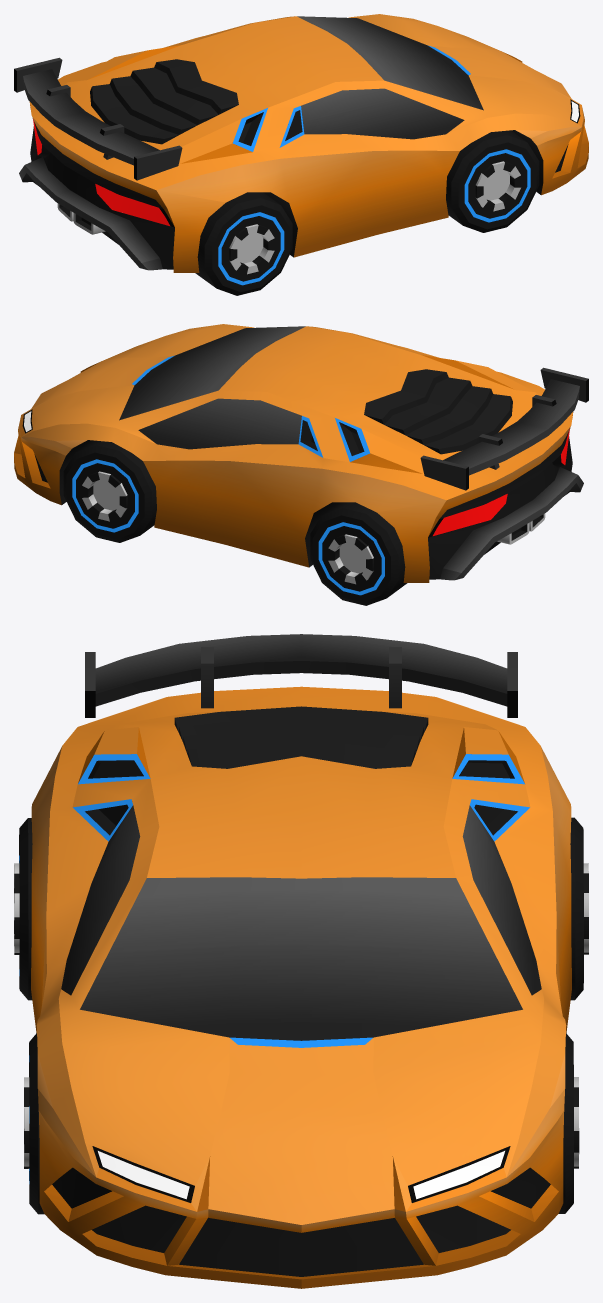
File: Car_235.glb
3 views of the same model, one above another, from view 1: azimuth 30°, elevation 25°; view 2: azimuth 150°, elevation 25°; view 3: azimuth 270°, elevation 25° (orthographic). The views are drawn at different scales.
Parts seen in each view (by area): view 1: Car_235, wheel_3_Car_235_Wheel_2R, wheel_1_Car_235_Wheel_1R; view 2: Car_235, wheel_2_Car_235_Wheel_2L, wheel_0_Car_235_Wheel_1L; view 3: Car_235, wheel_2_Car_235_Wheel_2L, wheel_3_Car_235_Wheel_2R, wheel_0_Car_235_Wheel_1L, wheel_1_Car_235_Wheel_1R.
Boxes of the visible parts, left/top/right/bottom form: Car_235: left=14, top=14, right=588, bottom=272; wheel_3_Car_235_Wheel_2R: left=195, top=192, right=292, bottom=295; wheel_1_Car_235_Wheel_1R: left=446, top=130, right=539, bottom=232; Car_235: left=14, top=324, right=588, bottom=582; wheel_2_Car_235_Wheel_2L: left=310, top=502, right=407, bottom=605; wheel_0_Car_235_Wheel_1L: left=63, top=440, right=156, bottom=542; Car_235: left=31, top=634, right=571, bottom=1288; wheel_2_Car_235_Wheel_2L: left=570, top=817, right=588, bottom=1000; wheel_3_Car_235_Wheel_2R: left=14, top=818, right=32, bottom=1000; wheel_0_Car_235_Wheel_1L: left=558, top=1033, right=579, bottom=1213; wheel_1_Car_235_Wheel_1R: left=24, top=1033, right=44, bottom=1214.
Size of the model in its own units: 3.7 by 1.08 by 2.05.
Materials: 2 (2 with a texture image).
